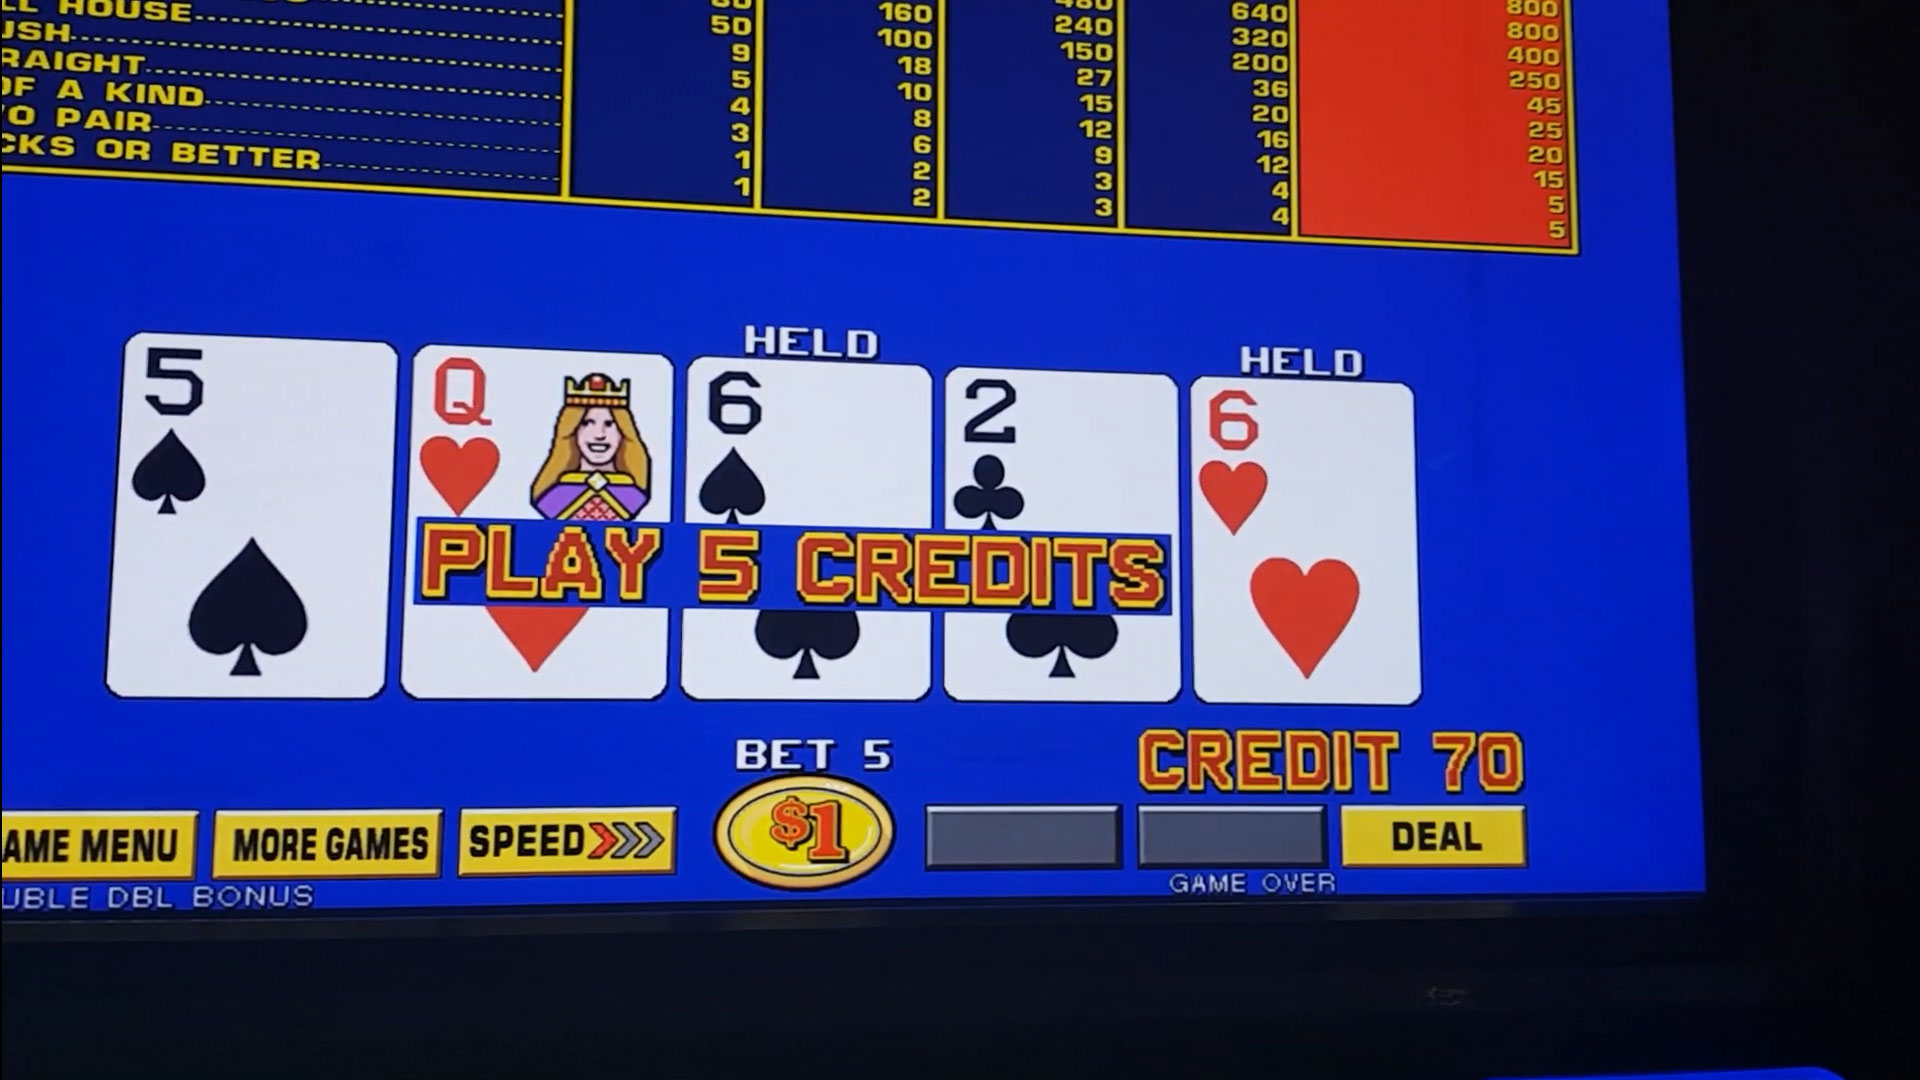C2: (949, 375, 1175, 527)
H6: (1192, 384, 1407, 542)
HQ: (413, 357, 671, 520)
S5: (127, 344, 384, 529)
S6: (692, 369, 928, 522)
